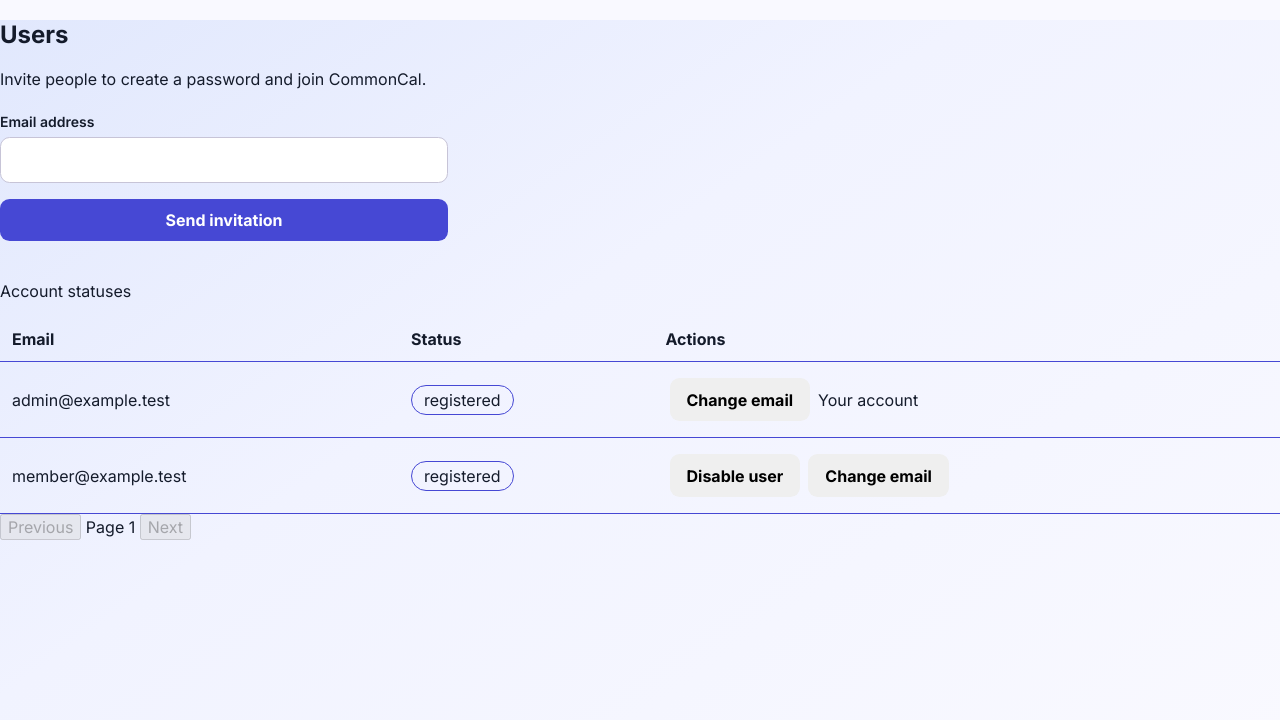
requires explicit confirmation, allows cancel, and disables a user with CSRF
Click the button "Disable user".
click(735, 476)  # box [670, 454, 800, 497]
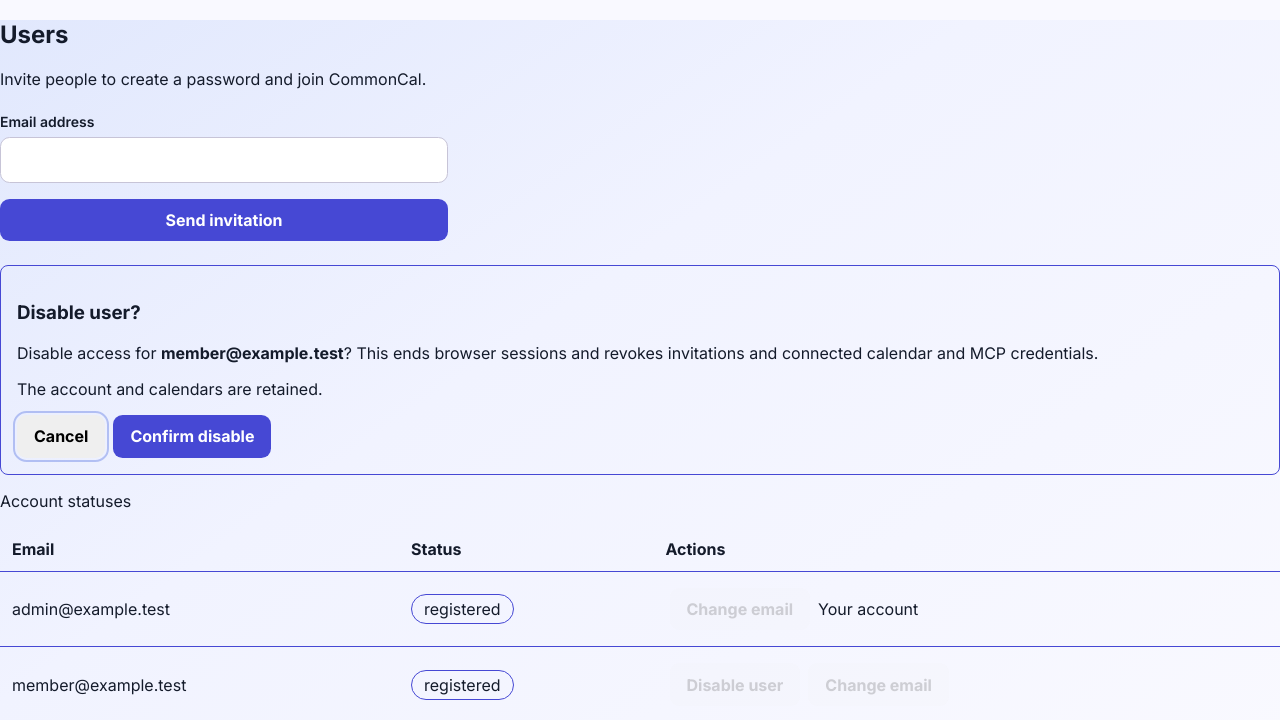
Check: the element "Disable user?" shows "member@example.test", box [161, 343, 344, 363]
Click the button "Cancel".
click(61, 436)  # box [17, 415, 105, 458]
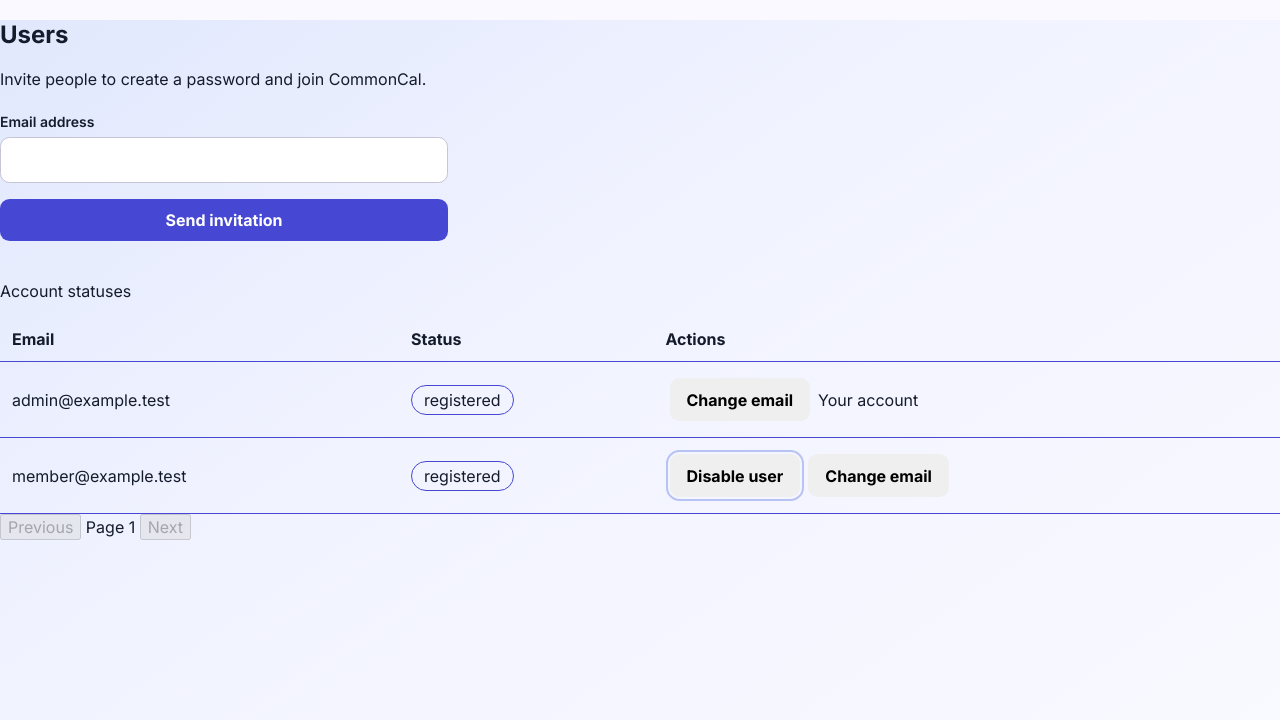
Check: the element "Disable user?" is not shown
Click the button "Disable user".
click(735, 476)  # box [670, 454, 800, 497]
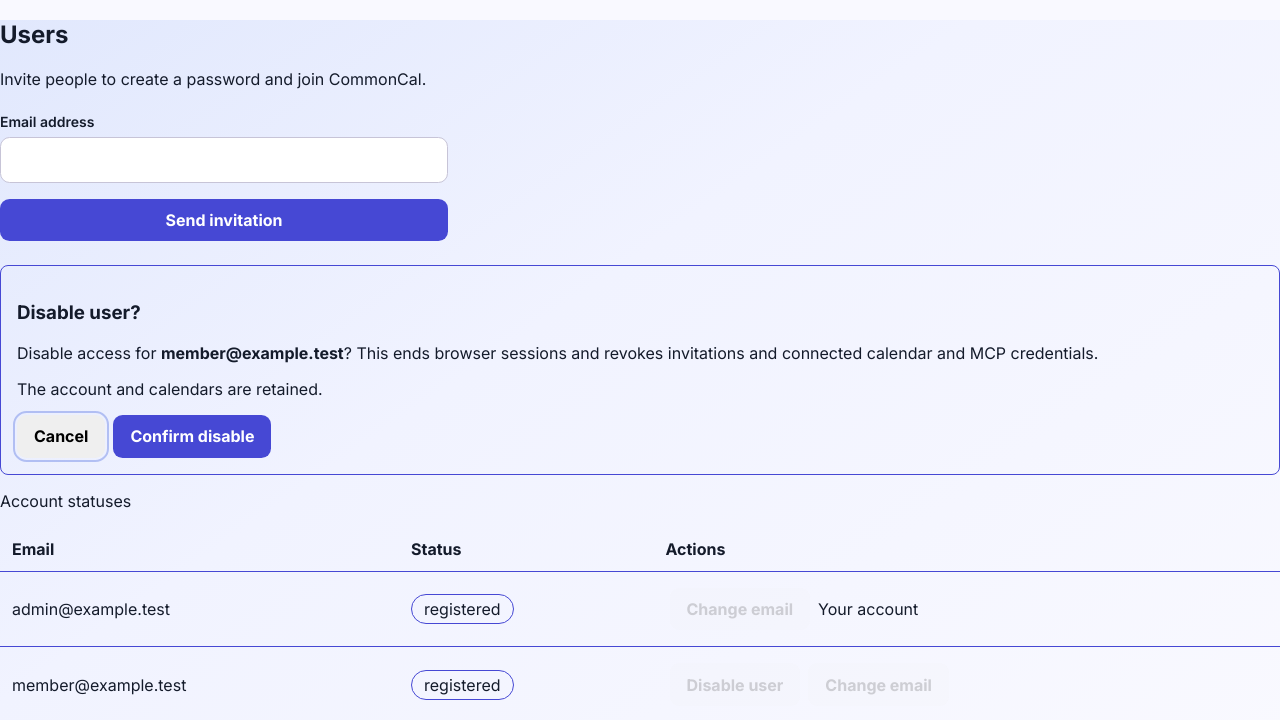
Click the button "Confirm disable".
click(192, 436)  # box [113, 415, 272, 458]
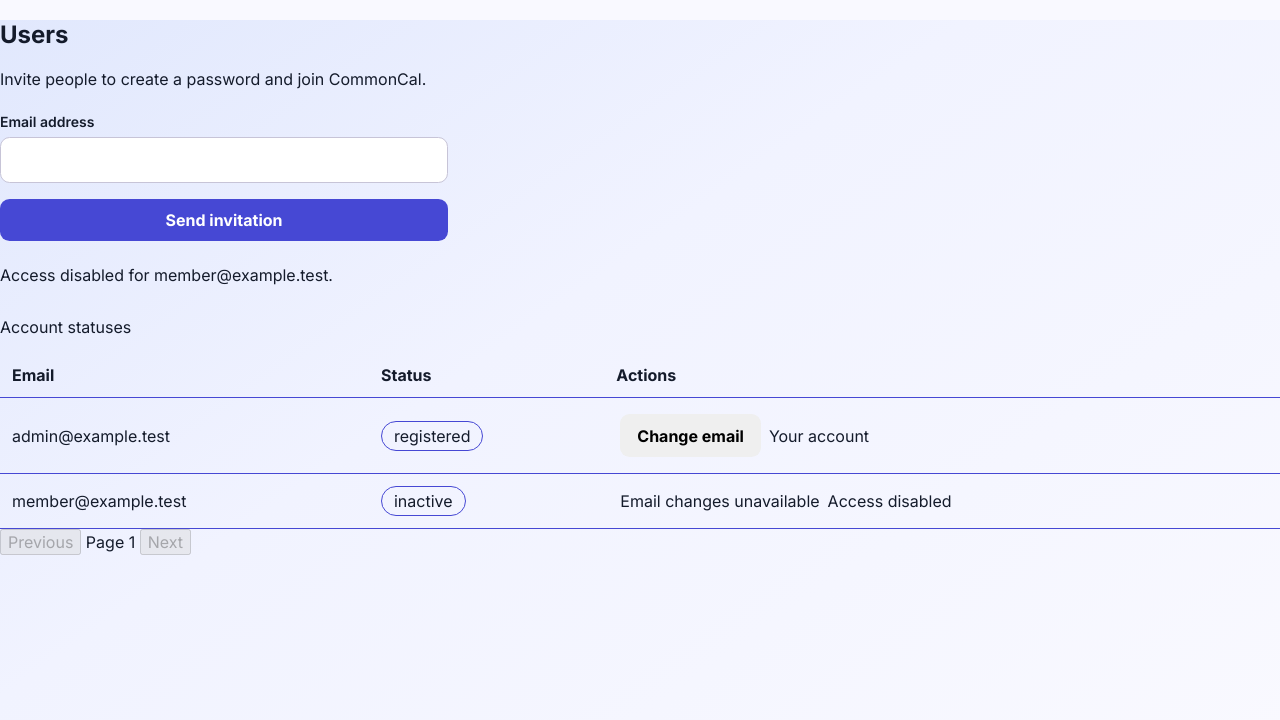
Check: the text "Access disabled for member@example.test." is shown, box [0, 265, 333, 285]
Check: the text "inactive" is shown, box [381, 486, 466, 516]
Check: the heading "Disable user" is gone
